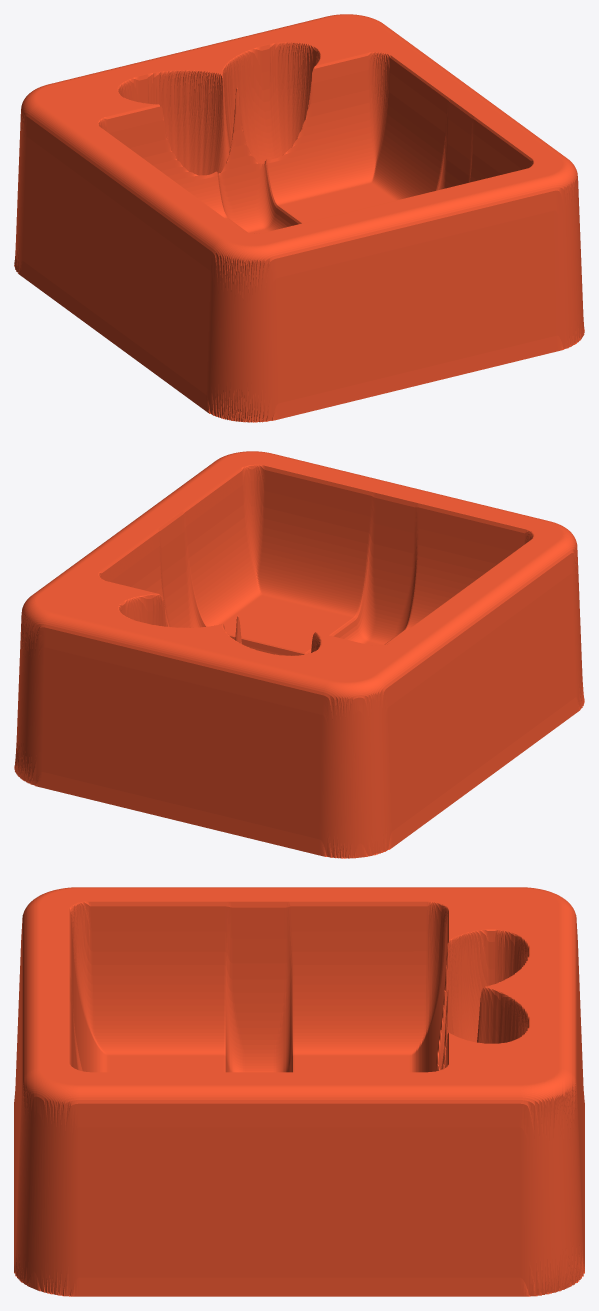
The model's file is mold.glb.
3 renders of one model, top to bottom at view 1: azimuth 30°, elevation 25°; view 2: azimuth 150°, elevation 25°; view 3: azimuth 270°, elevation 25°, orthographic. The views are drawn at different scales.
Visible parts, largest first — view 1: geometry_0; view 2: geometry_0; view 3: geometry_0.
Part boxes in pixels (x1=…): geometry_0: x1=14, y1=14, x2=584, y2=422; geometry_0: x1=14, y1=451, x2=584, y2=858; geometry_0: x1=14, y1=887, x2=584, y2=1296.
Bounding box in the file's own units: 0.072 × 0.031 × 0.0798.
